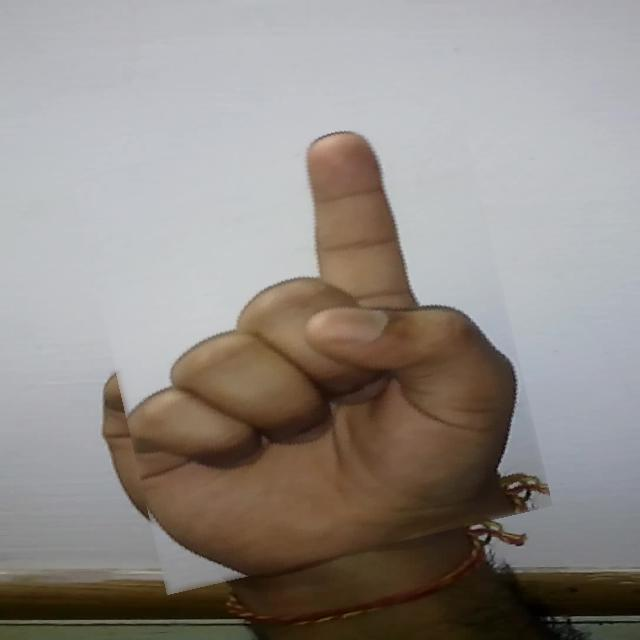I: (92, 108, 532, 576)
